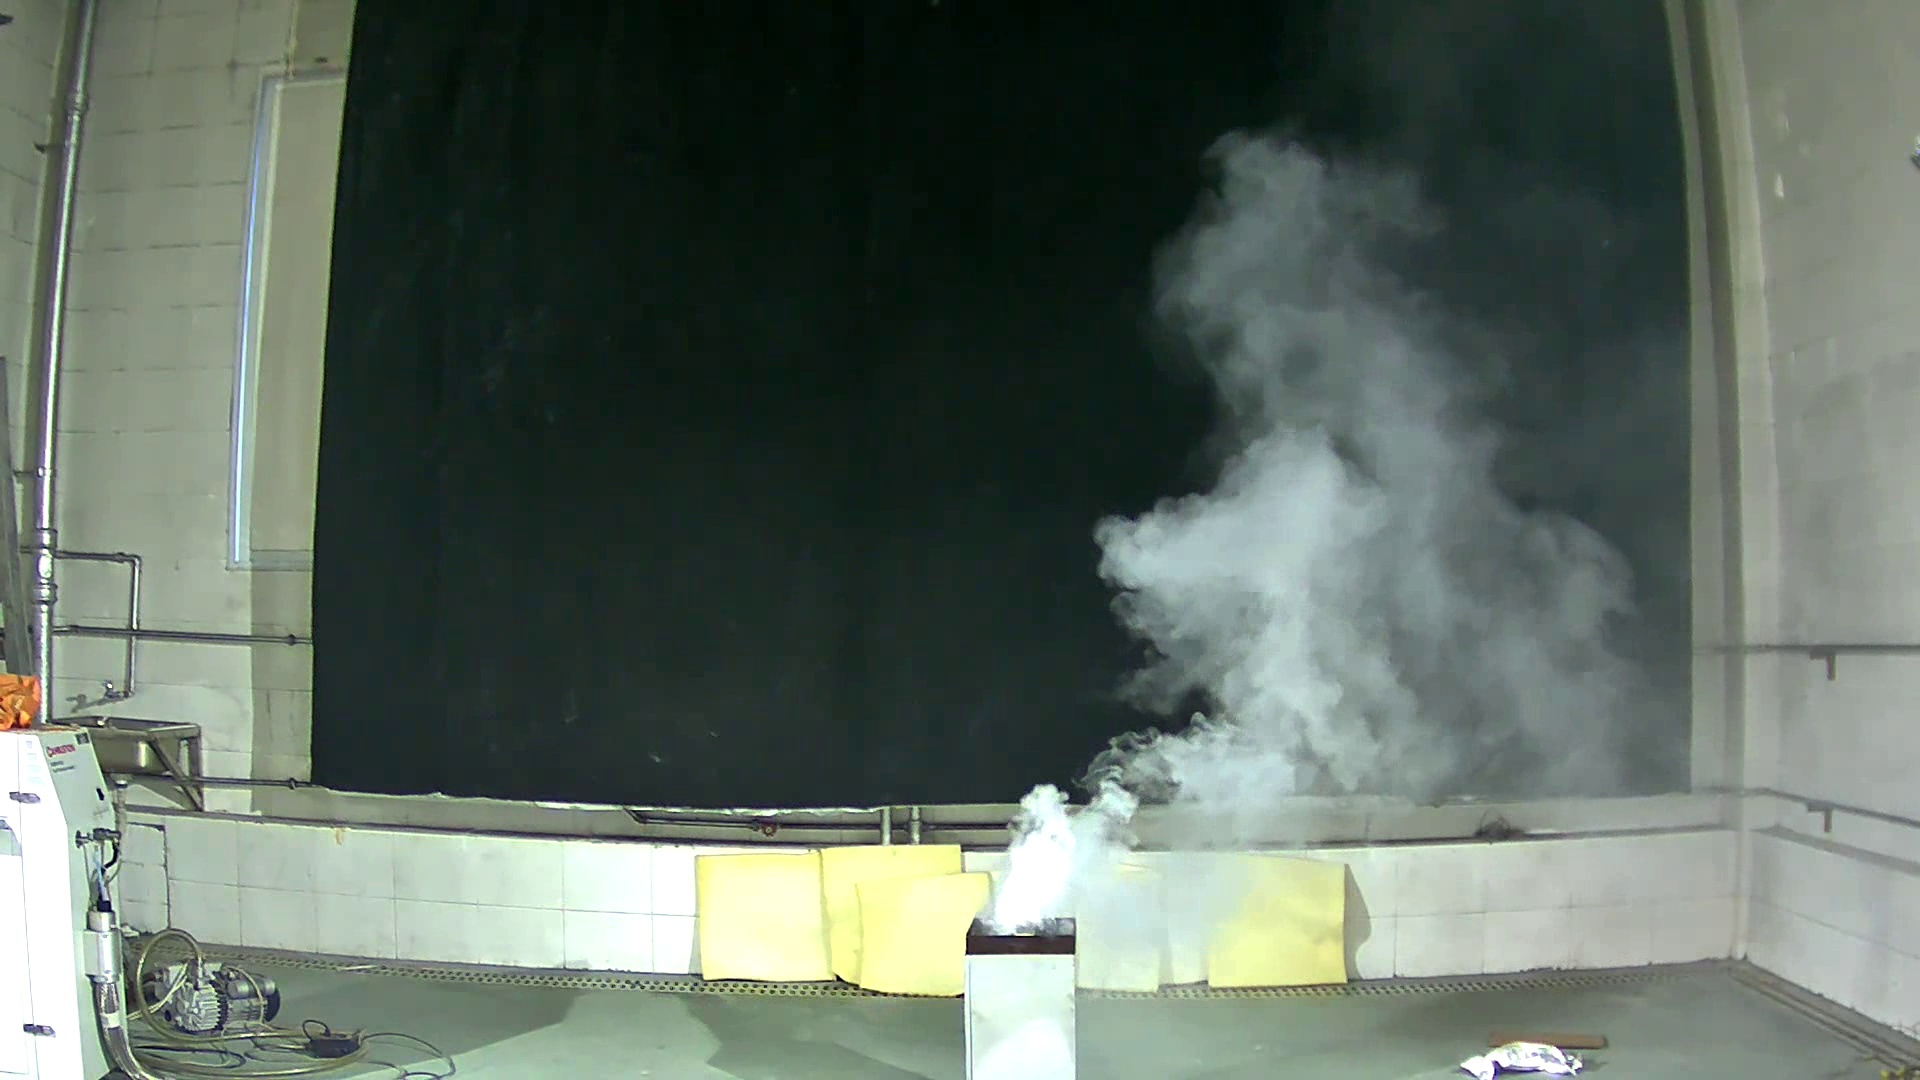smoke: (994, 117, 1633, 920)
